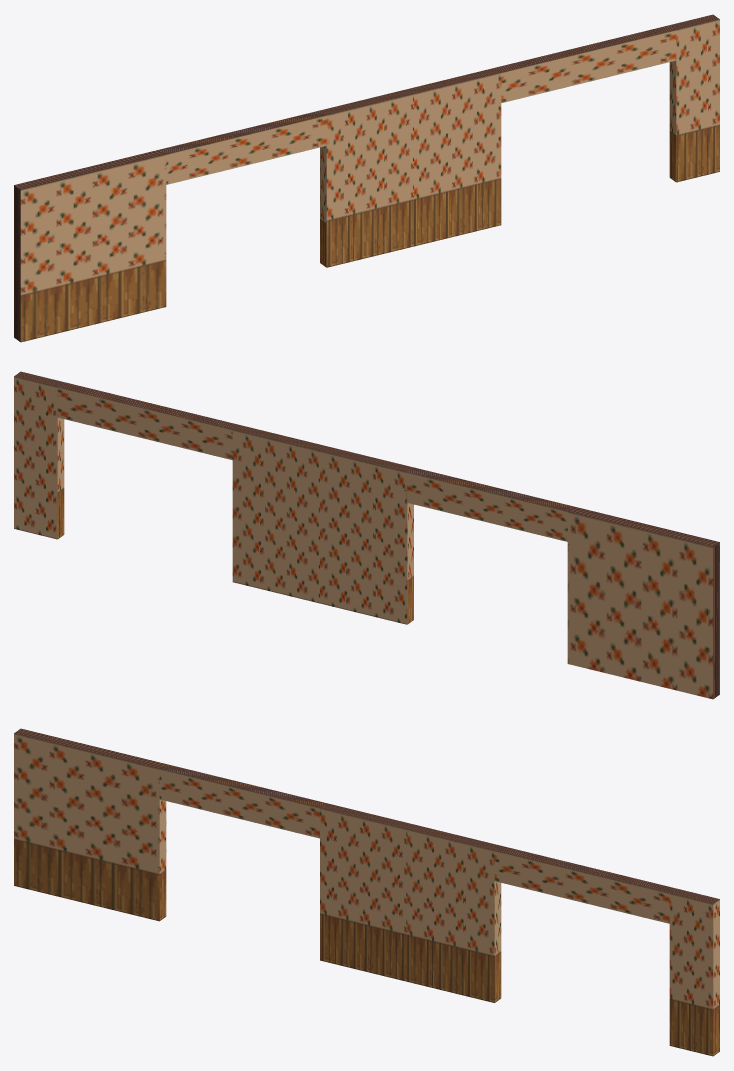
Rendered from Paredes_intermedias_Sala_Cocina.obj.
3 renders of one model, top to bottom at view 1: azimuth 30°, elevation 25°; view 2: azimuth 150°, elevation 25°; view 3: azimuth 330°, elevation 25°, orthographic.
Parts seen in each view (by area): view 1: Paredes_intermedias_Sala_Cocina; view 2: Paredes_intermedias_Sala_Cocina; view 3: Paredes_intermedias_Sala_Cocina.
Boxes of the visible parts, <box> form: Paredes_intermedias_Sala_Cocina: <box>14,14,719,342</box>; Paredes_intermedias_Sala_Cocina: <box>14,371,719,699</box>; Paredes_intermedias_Sala_Cocina: <box>14,728,719,1056</box>.
Bounding box in the file's own units: 7.5 × 1.56 × 0.125.
1 material, 1 textured.
